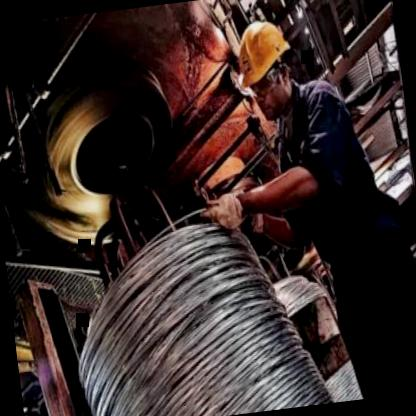helmet: (230, 7, 310, 127)
